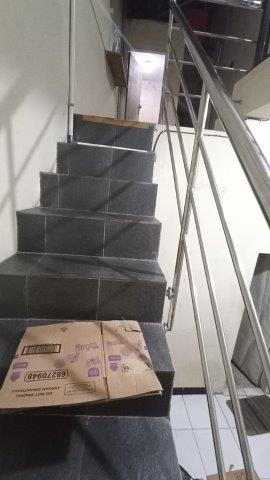kardus: (1, 321, 161, 408)
